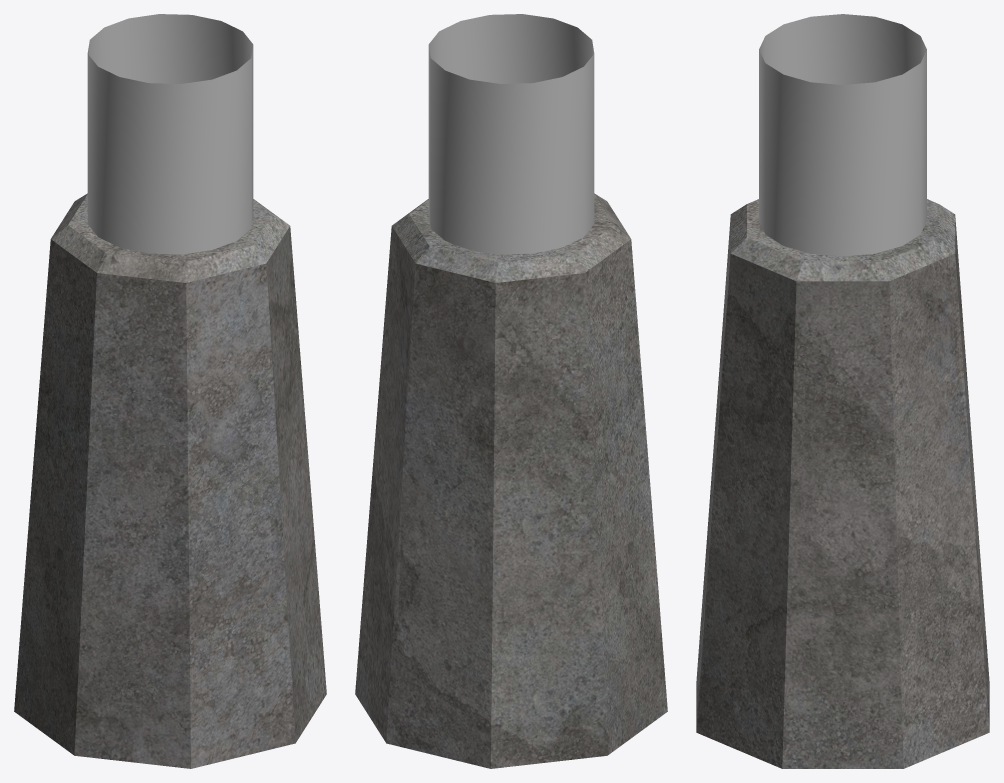
Rendered from SM_Pillar_12.FBX.
The picture shows the model from 3 angles, left to right: view 1: azimuth 30°, elevation 25°; view 2: azimuth 150°, elevation 25°; view 3: azimuth 270°, elevation 25°; orthographic projection.
Visible parts, largest first — view 1: SM_Pillar_12; view 2: SM_Pillar_12; view 3: SM_Pillar_12.
Part boxes in pixels (left/top/right/bottom): SM_Pillar_12: left=14, top=14, right=326, bottom=768; SM_Pillar_12: left=355, top=14, right=667, bottom=768; SM_Pillar_12: left=696, top=14, right=989, bottom=768.
Bounding box in the file's own units: 121 × 300 × 121.
